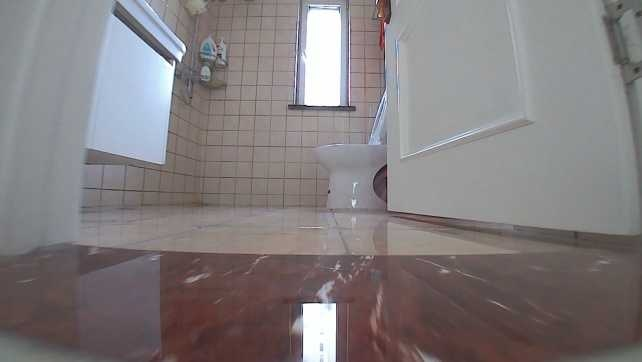door_anno: (376, 0, 640, 237)
door_sill: (0, 241, 641, 361)
toilet: (309, 87, 390, 210)
